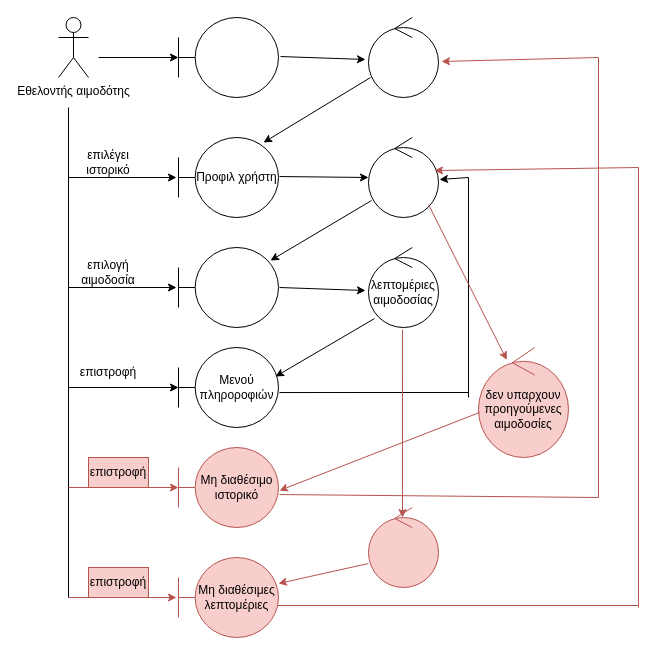
This 664x655 diagram has some shape labels left out. Each missing label, with the box of its shape:
εμφάνιση ιστορικού: (368, 136, 438, 218)
Ιστορικό: (178, 246, 278, 328)
μεταβαση στο προφιλ: (368, 16, 438, 98)
πρόβλημα φόρτωσης: (368, 506, 438, 588)
Στοιχεία χρήστη: (178, 16, 278, 98)
